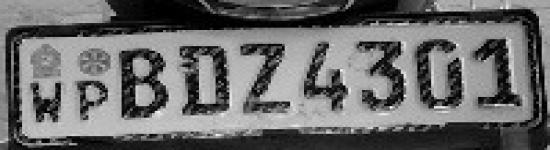0: (410, 34, 472, 116)
1: (469, 29, 525, 111)
3: (354, 34, 412, 118)
4: (296, 35, 356, 115)
B: (116, 45, 177, 128)
D: (175, 41, 237, 126)
P: (70, 77, 113, 128)
W: (24, 79, 72, 130)
Z: (236, 38, 297, 118)
